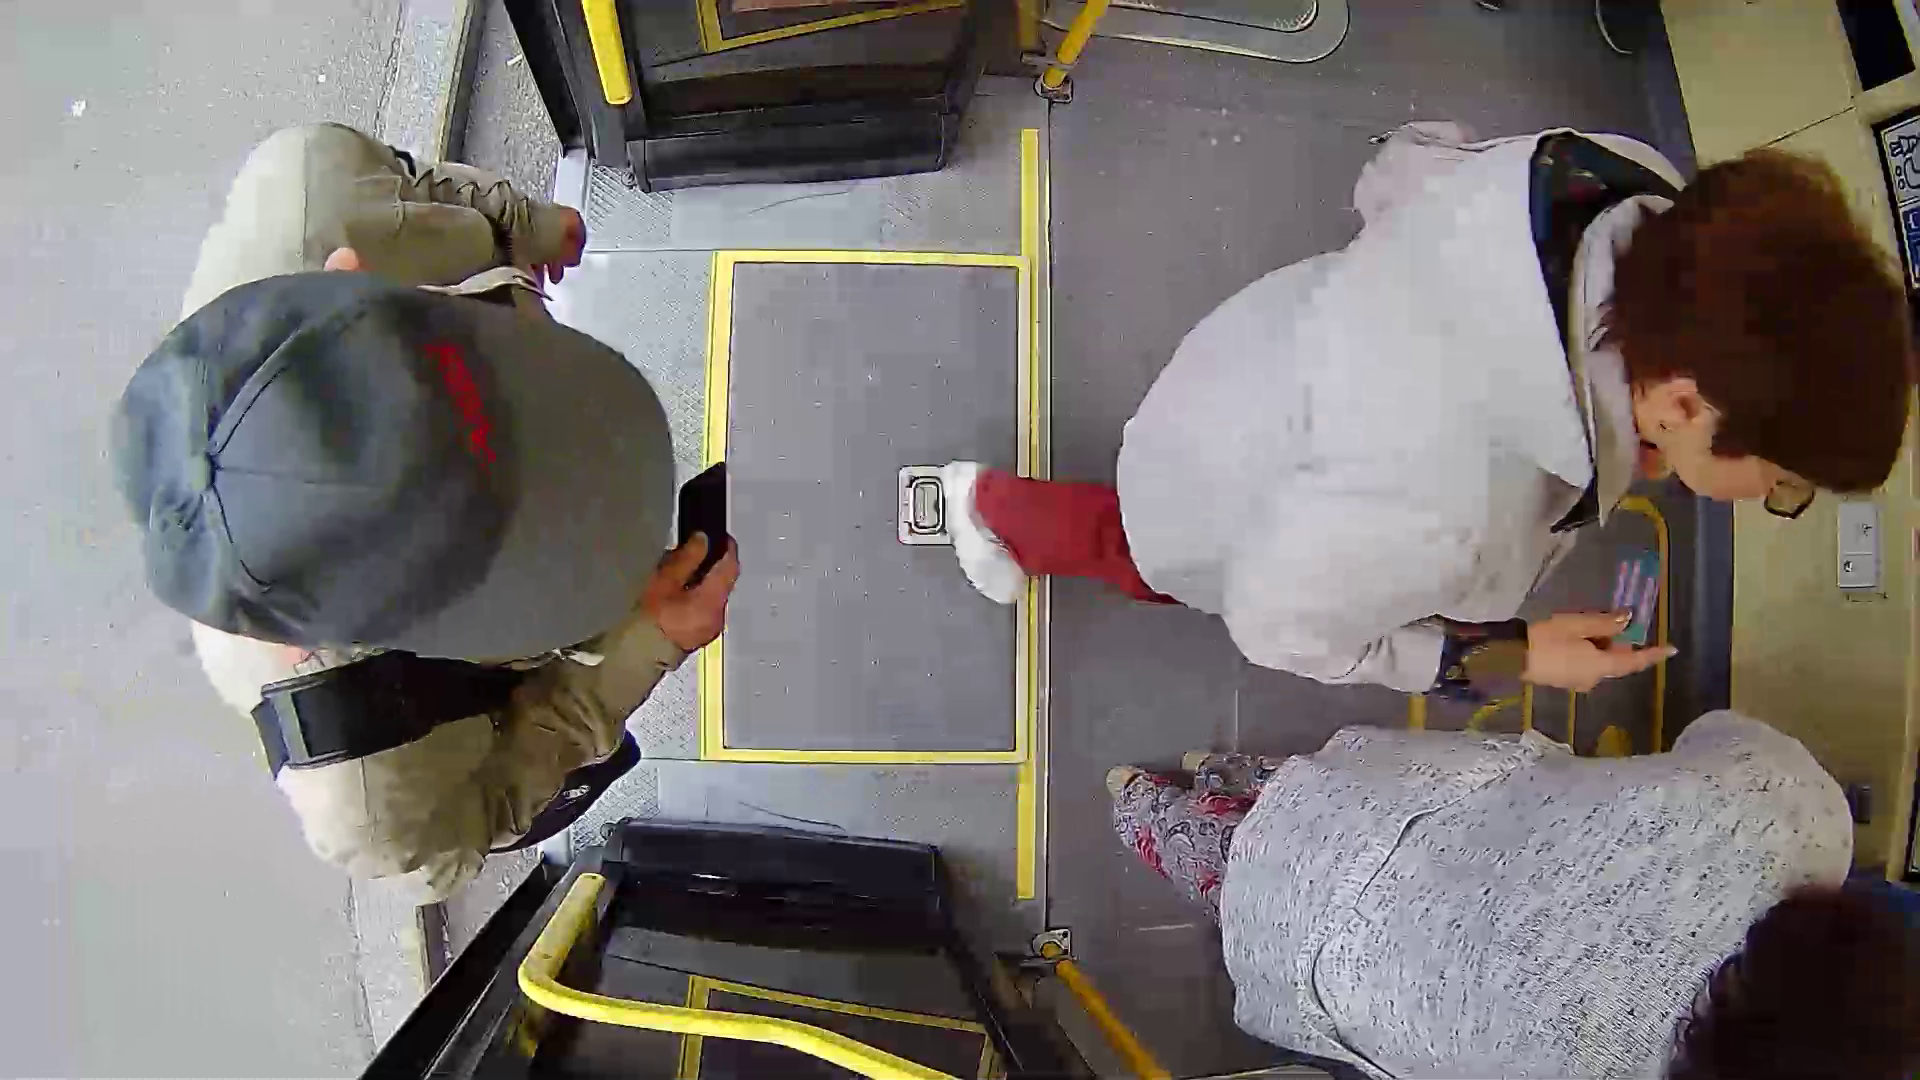person: (946, 88, 1916, 711), (100, 123, 768, 867)
